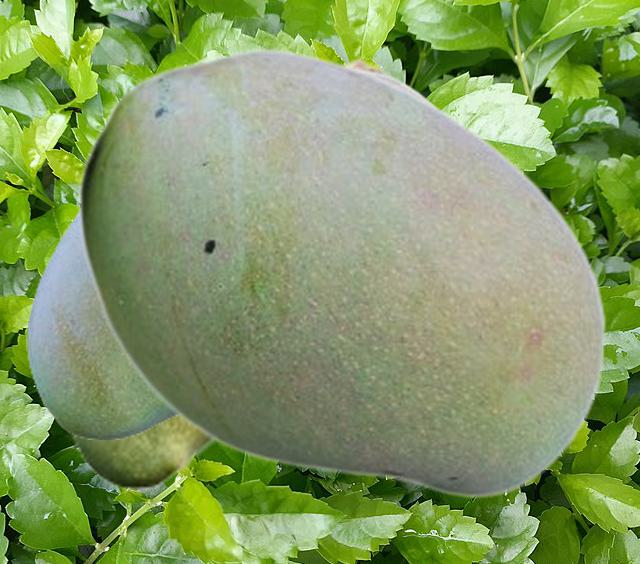green_mango: (77, 46, 606, 498), (67, 56, 427, 488), (26, 69, 441, 438)
